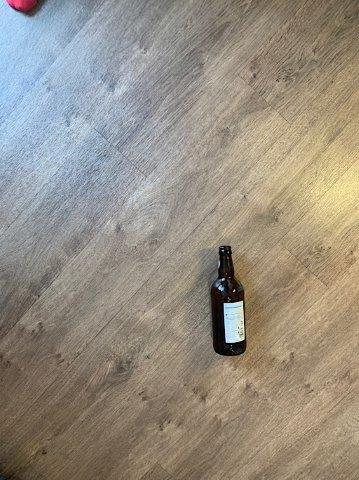botolkaca: (210, 246, 247, 354)
